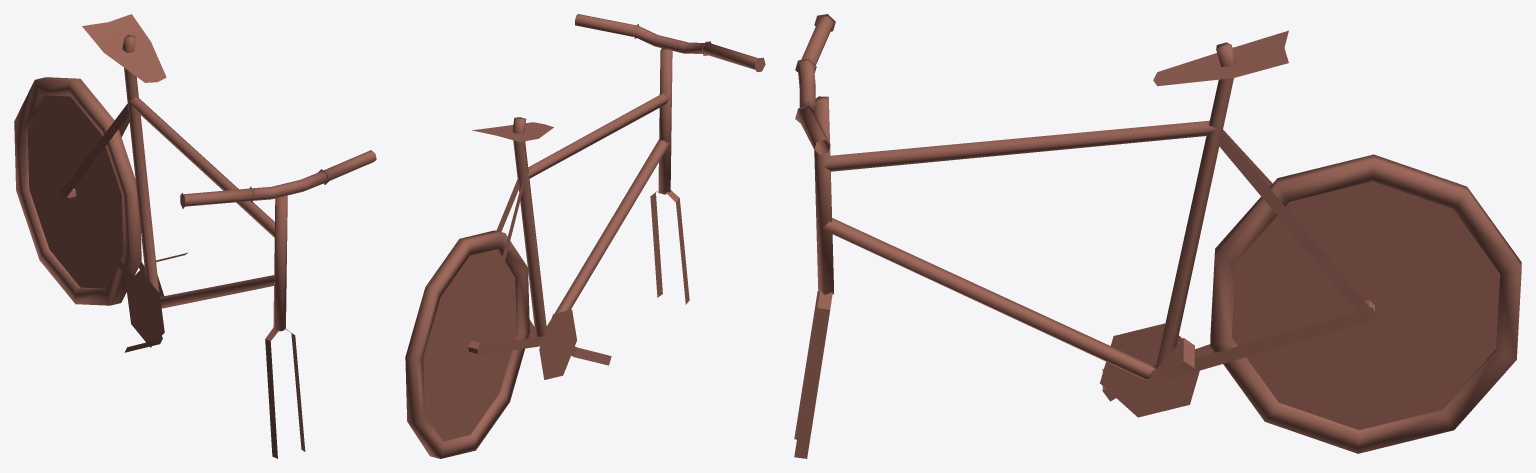
Rendered from BrokenBike.fbx.
3 views of the same model, side by side, from view 1: azimuth 30°, elevation 25°; view 2: azimuth 150°, elevation 25°; view 3: azimuth 270°, elevation 25° (orthographic). The views are drawn at different scales.
Parts seen in each view (by area): view 1: Cylinder.001; view 2: Cylinder.001; view 3: Cylinder.001.
Boxes of the visible parts, left/top/right/bottom form: Cylinder.001: left=14, top=14, right=376, bottom=458; Cylinder.001: left=405, top=14, right=765, bottom=458; Cylinder.001: left=794, top=14, right=1521, bottom=458.
Size of the model in its own units: 1.83 by 2.77 by 4.51.
